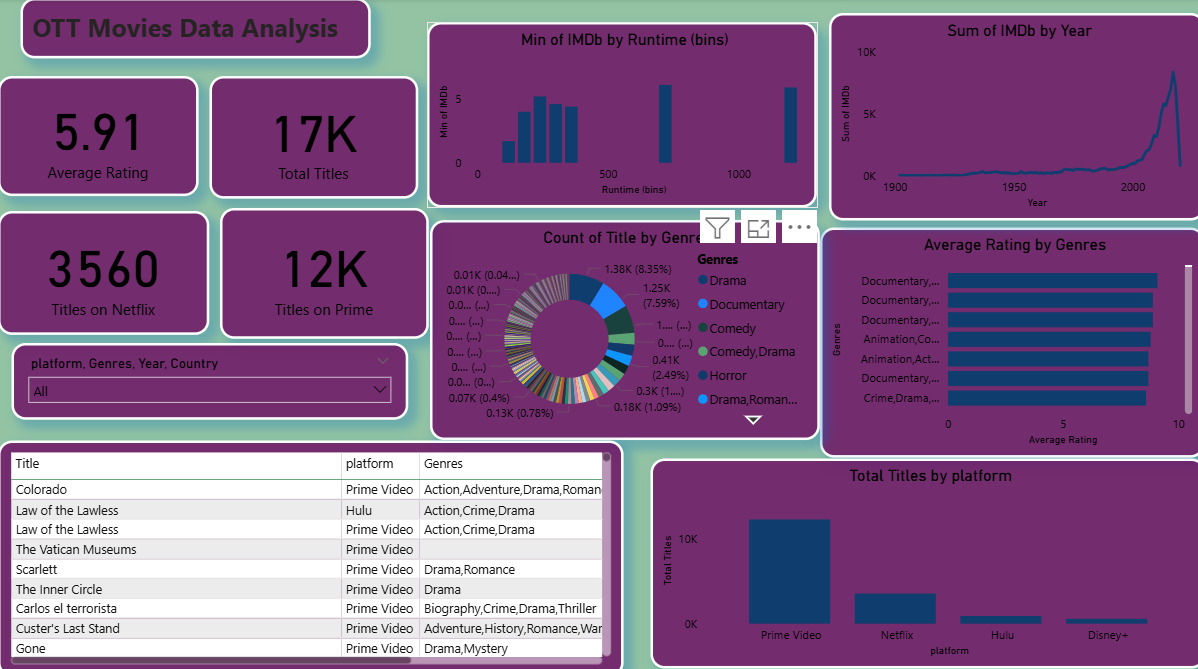

The page's visual inventory and layout, read from the dashboard file:
{"tool":"powerbi","page":{"name":"Page 1","canvas":[1280,720],"ordinal":0},"visuals":[{"type":"card","fields":{"Values":["MoviesOnStreamingPlatforms_updated.Average Rating"]},"box":[0,82.7,212.9,127.5],"z":0},{"type":"card","fields":{"Values":["MoviesOnStreamingPlatforms_updated.Total Titles"]},"box":[223.8,82.7,221.1,130.2],"z":1},{"type":"clusteredBarChart","fields":{"Category":["MoviesOnStreamingPlatforms_updated.Genres"],"Y":["MoviesOnStreamingPlatforms_updated.Average Rating"]},"box":[872.1,244.1,408.2,244.1],"z":4},{"type":"clusteredColumnChart","fields":{"Category":["MoviesOnStreamingPlatforms_updated.platform"],"Y":["MoviesOnStreamingPlatforms_updated.Total Titles"]},"box":[691.7,488.2,588.6,222.4],"z":5},{"type":"card","fields":{"Values":["MoviesOnStreamingPlatforms_updated.Titles on Netflix"]},"box":[0,225.1,223.8,131.6],"z":6},{"type":"card","fields":{"Values":["MoviesOnStreamingPlatforms_updated.Titles on Prime"]},"box":[234.6,222.4,221.1,138.3],"z":7},{"type":"donutChart","fields":{"Y":["CountNonNull(MoviesOnStreamingPlatforms_updated.Title)"],"Category":["MoviesOnStreamingPlatforms_updated.Genres"]},"box":[458.4,236,413.6,233.3],"z":8},{"type":"lineChart","fields":{"Category":["MoviesOnStreamingPlatforms_updated.Year"],"Y":["Sum(MoviesOnStreamingPlatforms_updated.IMDb)"]},"box":[881.5,16.3,398.7,219.7],"z":9},{"type":"clusteredColumnChart","fields":{"Category":["MoviesOnStreamingPlatforms_updated.Runtime (bins)"],"Y":["Min(MoviesOnStreamingPlatforms_updated.IMDb)"]},"box":[455.7,25.8,413.6,196.7],"z":10},{"type":"tableEx","fields":{"Values":["MoviesOnStreamingPlatforms_updated.Title","MoviesOnStreamingPlatforms_updated.platform","MoviesOnStreamingPlatforms_updated.Genres","MoviesOnStreamingPlatforms_updated.Year","MoviesOnStreamingPlatforms_updated.IMDb","MoviesOnStreamingPlatforms_updated.Runtime"]},"box":[0,469.3,663.2,250.9],"z":11},{"type":"slicer","fields":{"Values":["MoviesOnStreamingPlatforms_updated.platform","MoviesOnStreamingPlatforms_updated.Genres","MoviesOnStreamingPlatforms_updated.Year","MoviesOnStreamingPlatforms_updated.Country"]},"box":[13.6,366.2,420.4,81.4],"z":12},{"type":"textbox","box":[24.4,0,371.6,63.7],"z":13}]}

Visuals, with their boxes in screenshot pixels (x1, y1, x2, y2), scaled from the page's 1280x720 canvas onto the 1198x669 screenshot:
card - MoviesOnStreamingPlatforms_updated.Average Rating: 0,77,199,195
card - MoviesOnStreamingPlatforms_updated.Total Titles: 209,77,416,198
clusteredBarChart - MoviesOnStreamingPlatforms_updated.Genres x MoviesOnStreamingPlatforms_updated.Average Rating: 816,227,1197,454
clusteredColumnChart - MoviesOnStreamingPlatforms_updated.platform x MoviesOnStreamingPlatforms_updated.Total Titles: 647,454,1197,660
card - MoviesOnStreamingPlatforms_updated.Titles on Netflix: 0,209,209,331
card - MoviesOnStreamingPlatforms_updated.Titles on Prime: 220,207,427,335
donutChart - CountNonNull(MoviesOnStreamingPlatforms_updated.Title) x MoviesOnStreamingPlatforms_updated.Genres: 429,219,816,436
lineChart - MoviesOnStreamingPlatforms_updated.Year x Sum(MoviesOnStreamingPlatforms_updated.IMDb): 825,15,1197,219
clusteredColumnChart - MoviesOnStreamingPlatforms_updated.Runtime (bins) x Min(MoviesOnStreamingPlatforms_updated.IMDb): 427,24,814,207
tableEx - MoviesOnStreamingPlatforms_updated.Title x MoviesOnStreamingPlatforms_updated.platform: 0,436,621,668
slicer - MoviesOnStreamingPlatforms_updated.platform x MoviesOnStreamingPlatforms_updated.Genres: 13,340,406,416
textbox: 23,0,371,59
